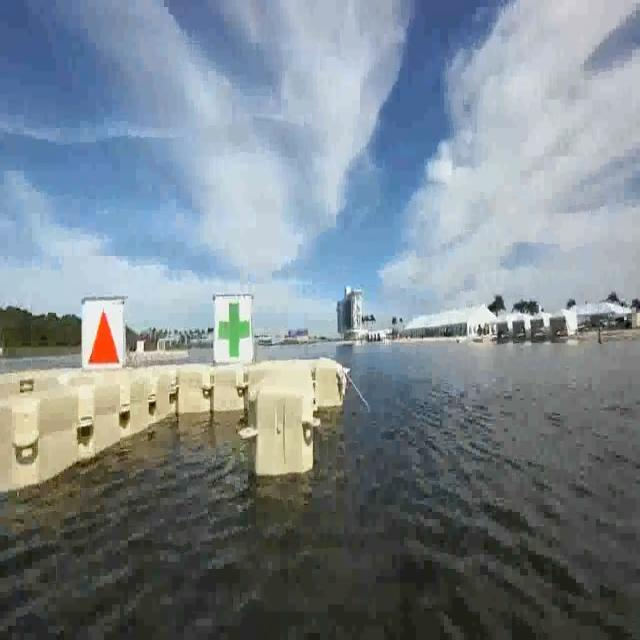blue-cross: (215, 292, 252, 365)
red-dot: (84, 294, 124, 368)
